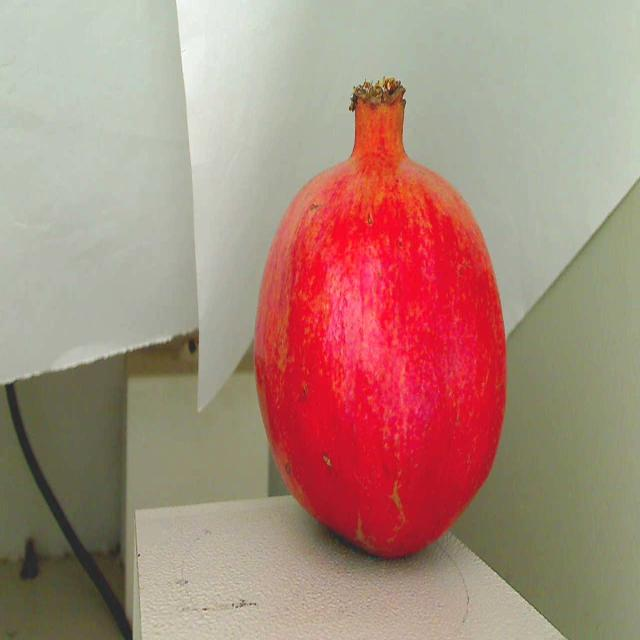pomegranate: (239, 66, 521, 568)
